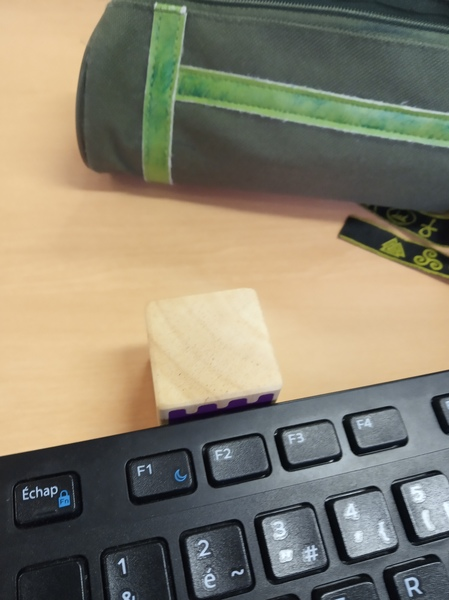violet: (145, 298, 278, 408)
